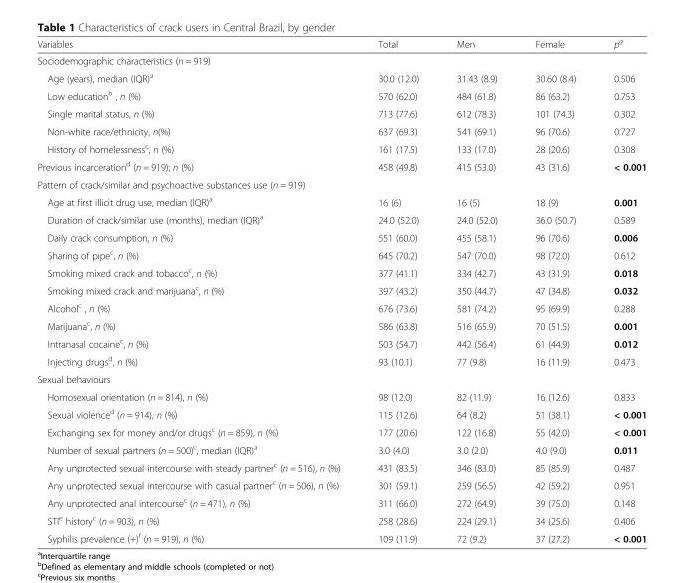table: (36, 36, 646, 543)
table column: (36, 36, 358, 543), (358, 36, 437, 543), (515, 36, 594, 543), (437, 36, 515, 543), (594, 36, 646, 543)
table column header: (36, 36, 646, 52)
table projected row header: (36, 175, 646, 192), (36, 370, 646, 387), (36, 52, 646, 68)
table row: (36, 156, 646, 175), (36, 351, 646, 370), (36, 68, 646, 86), (36, 86, 646, 104), (36, 104, 646, 122), (36, 192, 646, 210), (36, 210, 646, 228), (36, 245, 646, 263), (36, 280, 646, 298), (36, 298, 646, 316), (36, 333, 646, 351), (36, 404, 646, 422), (36, 422, 646, 440), (36, 457, 646, 475), (36, 475, 646, 493), (36, 493, 646, 511), (36, 122, 646, 139), (36, 139, 646, 156), (36, 175, 646, 192), (36, 228, 646, 245), (36, 263, 646, 280), (36, 316, 646, 333), (36, 370, 646, 387), (36, 387, 646, 404), (36, 440, 646, 457), (36, 511, 646, 528), (36, 36, 646, 52), (36, 52, 646, 68), (36, 528, 646, 543)
